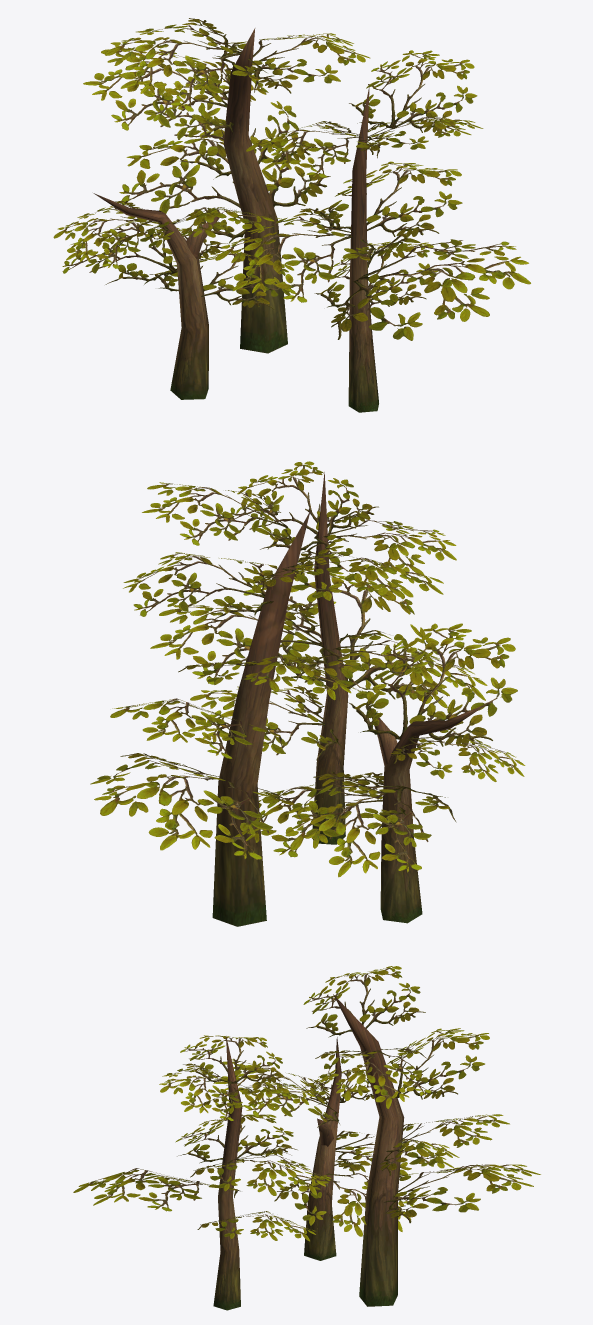
File: environment_Tree_yellow_002_a.FBX
The picture shows the model from 3 angles, top to bottom: view 1: azimuth 30°, elevation 25°; view 2: azimuth 150°, elevation 25°; view 3: azimuth 270°, elevation 25°; orthographic projection. The views are drawn at different scales.
Parts seen in each view (by area): view 1: environment_Tree_yellow_002_a, environment_Tree_yellow_002_b; view 2: environment_Tree_yellow_002_a, environment_Tree_yellow_002_b; view 3: environment_Tree_yellow_002_a, environment_Tree_yellow_002_b.
Boxes of the visible parts, x1,y1,x2,y2 form: environment_Tree_yellow_002_a: (53, 18, 530, 340); environment_Tree_yellow_002_b: (93, 28, 378, 412); environment_Tree_yellow_002_a: (90, 461, 525, 877); environment_Tree_yellow_002_b: (212, 472, 489, 926); environment_Tree_yellow_002_a: (73, 966, 540, 1241); environment_Tree_yellow_002_b: (213, 994, 404, 1310).
Bounding box in the file's own units: 318 × 245 × 431.
